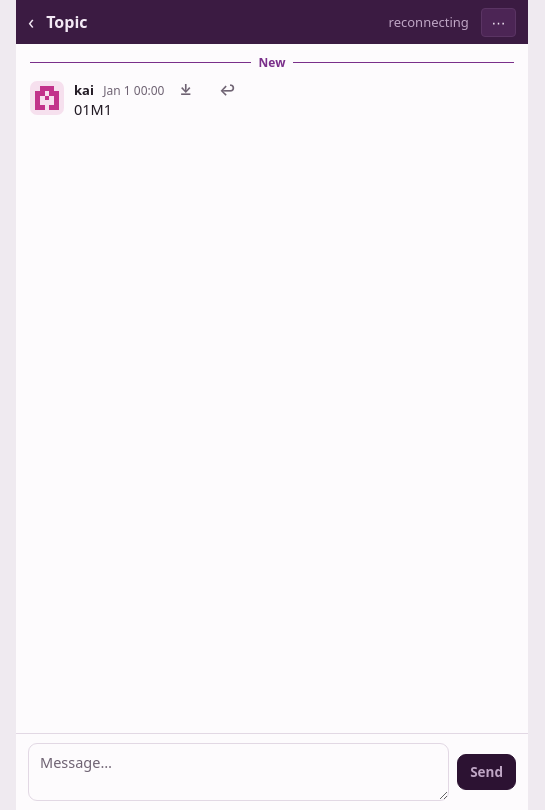
Scenario: tapping a message’s reply aims the composer and clearing drops it
What coordinates should you click on to do the following:
click the button named "Reply"
I would click on:
 (227, 90)
Its box is [207,75,248,105].
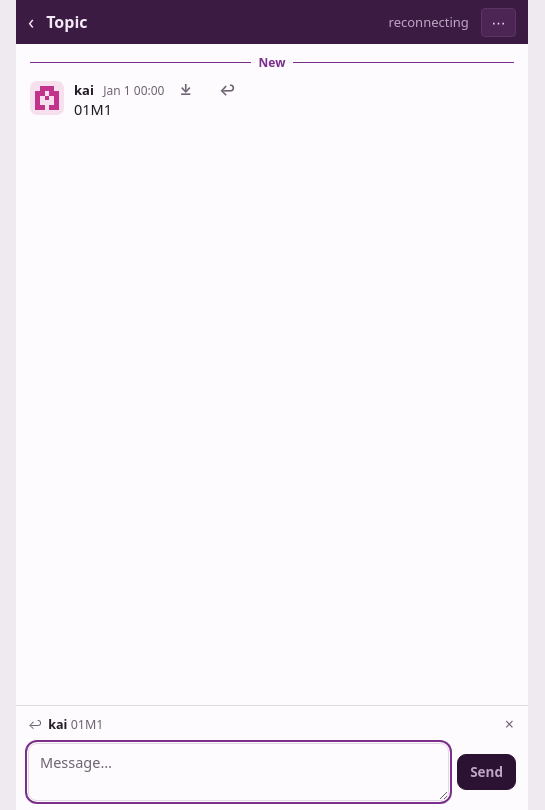
expect the button named "Clear reply" is shown: met
What coordinates should you click on to do the following:
click the button named "Clear reply"
I would click on:
 (509, 724)
Its box is [493,708,526,740].
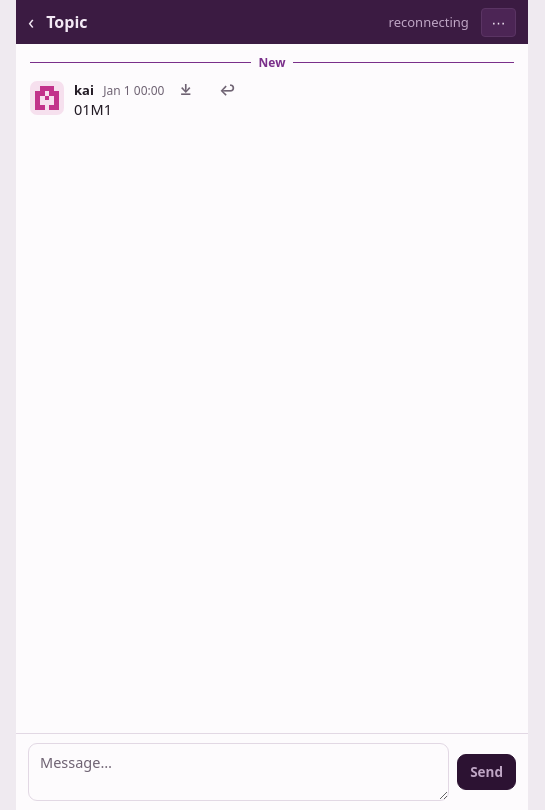
expect the button "×" is gone: met
